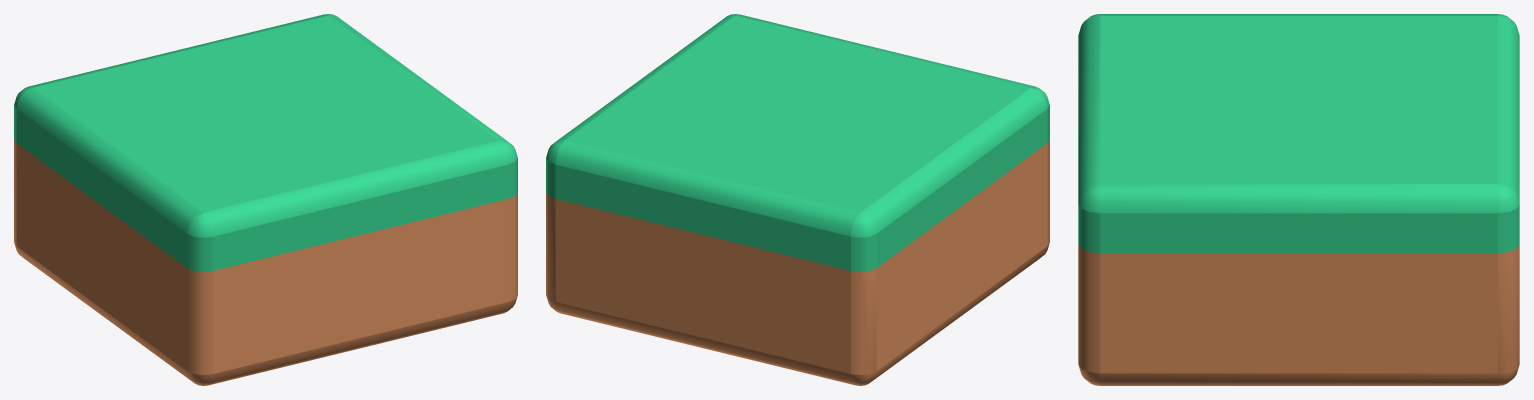
Rendered from blockRoundedLarge.fbx.
3 renders of one model, left to right at view 1: azimuth 30°, elevation 25°; view 2: azimuth 150°, elevation 25°; view 3: azimuth 270°, elevation 25°, orthographic. The views are drawn at different scales.
Visible parts, largest first — view 1: blockRoundedLarge; view 2: blockRoundedLarge; view 3: blockRoundedLarge.
Part boxes in pixels (box(x1,y1,x2,y2)): blockRoundedLarge: box(14, 14, 517, 385); blockRoundedLarge: box(546, 14, 1049, 385); blockRoundedLarge: box(1078, 14, 1519, 385).
Bounding box in the file's own units: 20 × 10 × 20.
